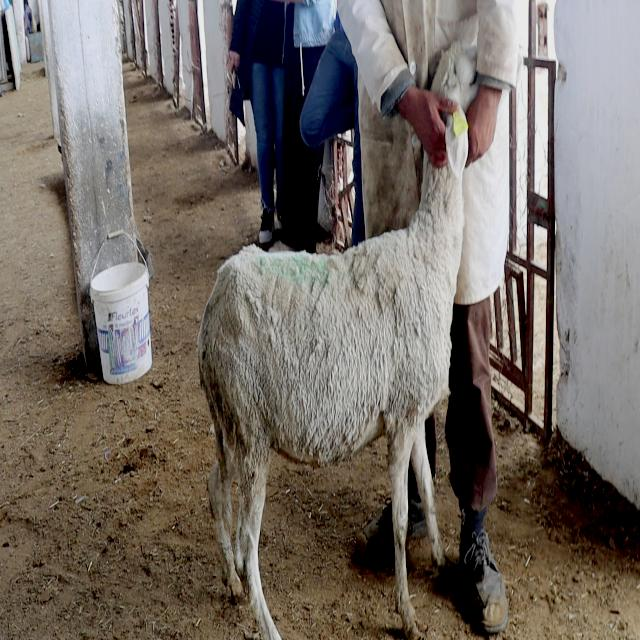Score_1: (197, 41, 478, 639)
